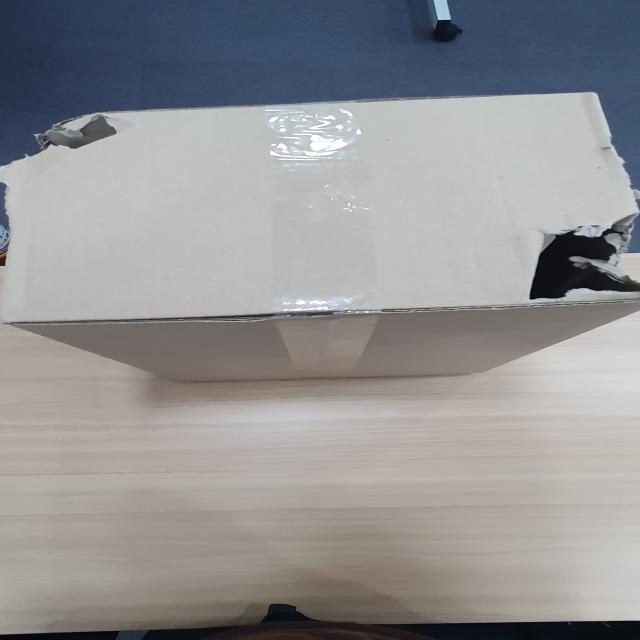hole: (0, 109, 124, 259), (521, 213, 639, 312)
